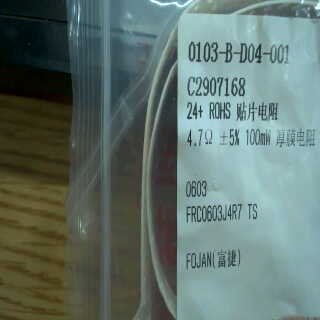4.7R: (185, 126, 218, 150)
